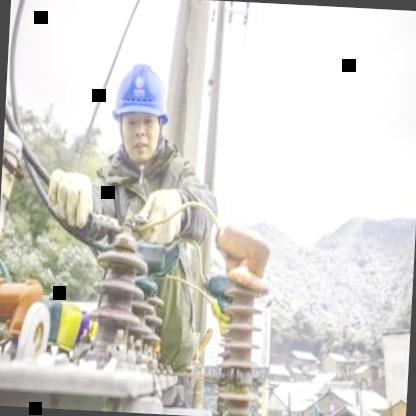helmet: (106, 54, 174, 170)
